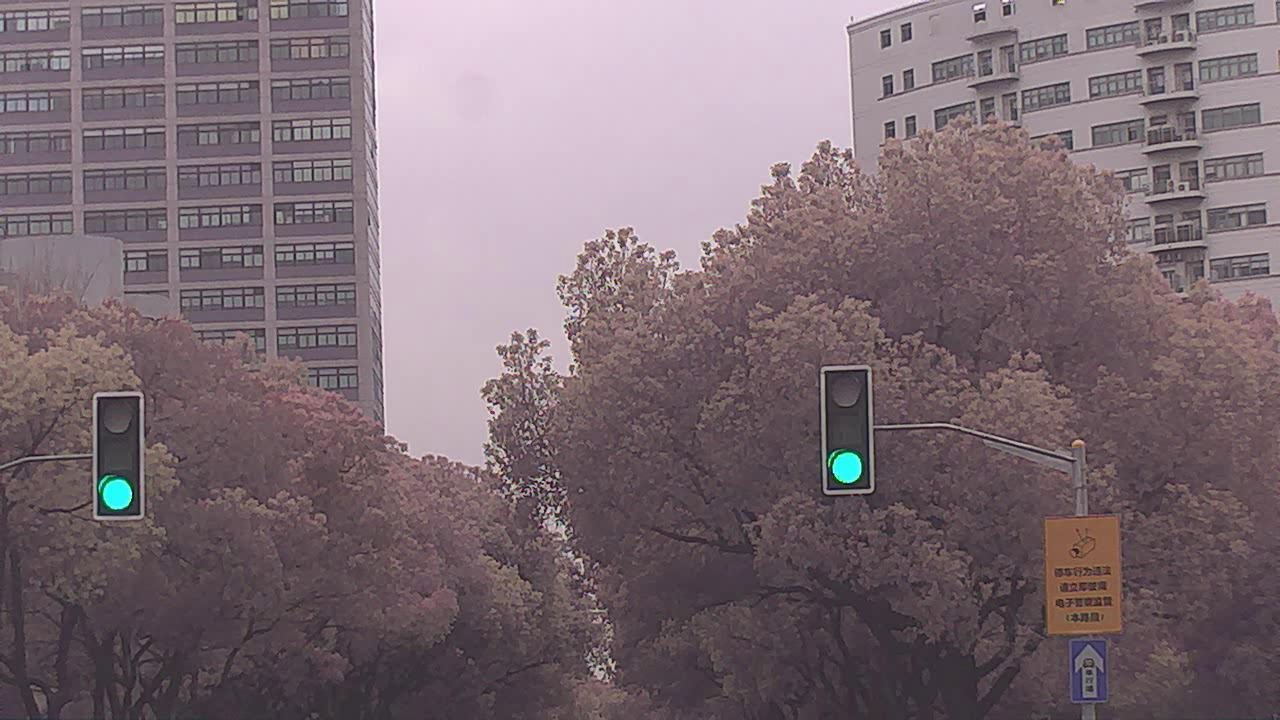traffic_light: (97, 394, 150, 527), (821, 368, 874, 485)
